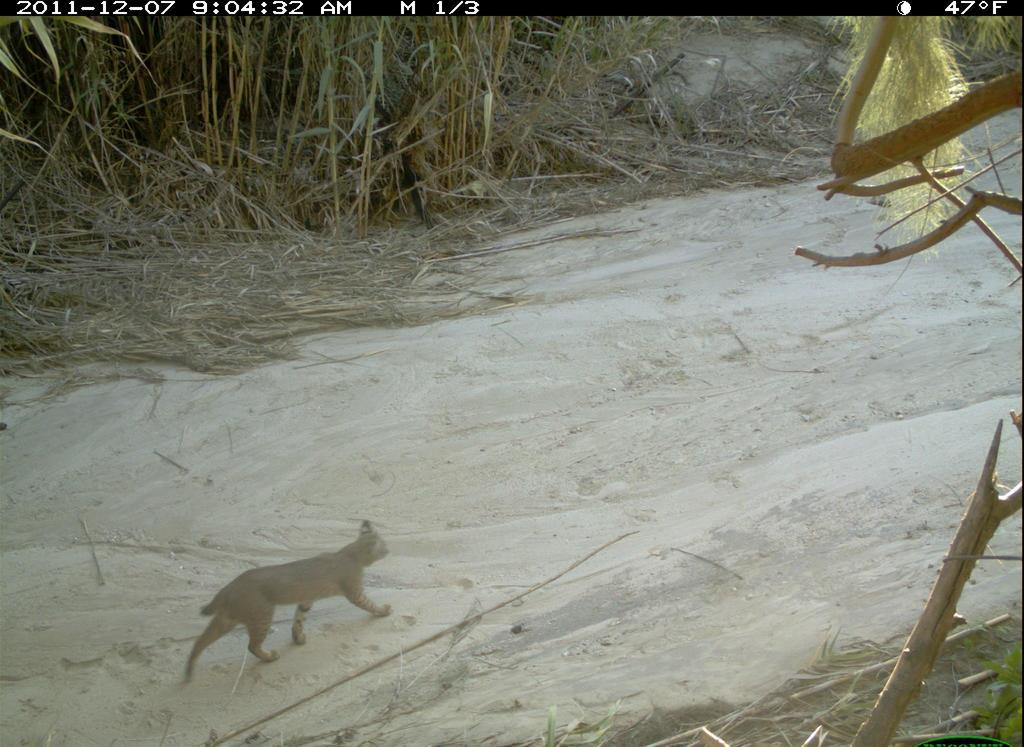bobcat: (167, 513, 410, 686)
